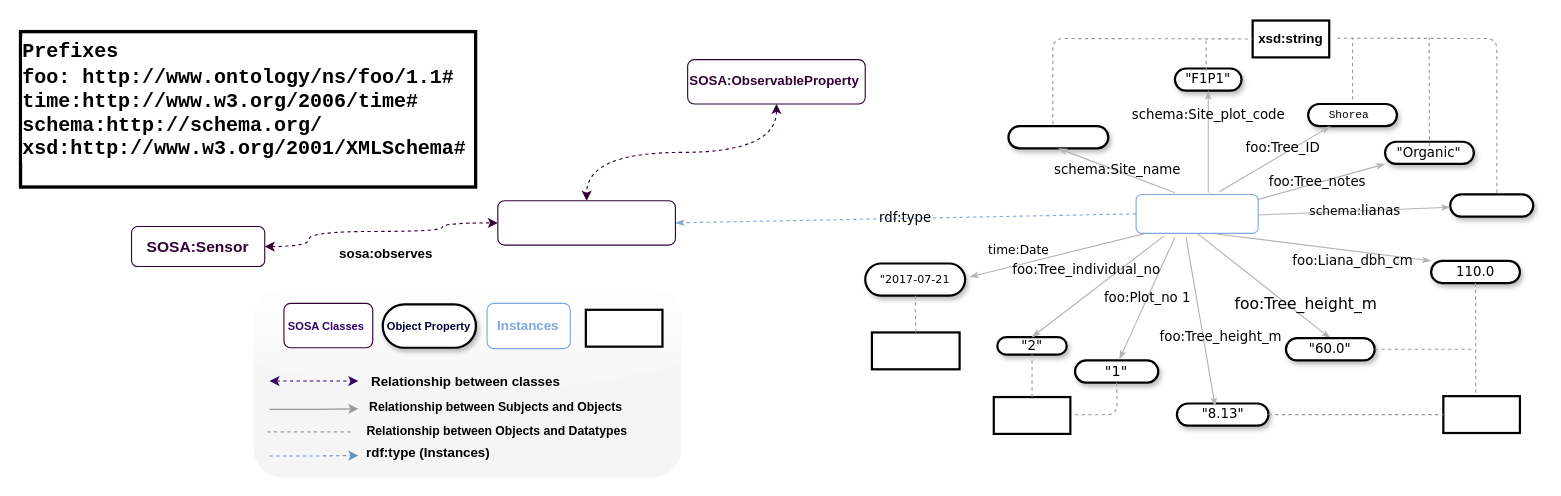
This 1561x496 diagram has some shape labels left out. The shapes that lost their labels are listed below. From the top down, each one's centre as x and y in pixels, then its label:
(x=1059, y=138): "Danum W15"
(x=586, y=222): SOSA:Observation
(x=1196, y=213): foo_lianas1
(x=1492, y=206): "lianas1"
(x=623, y=327): Data Property
(x=915, y=350): xsd:datetime
(x=1031, y=414): xsd:integer
(x=1481, y=414): xsd:float
